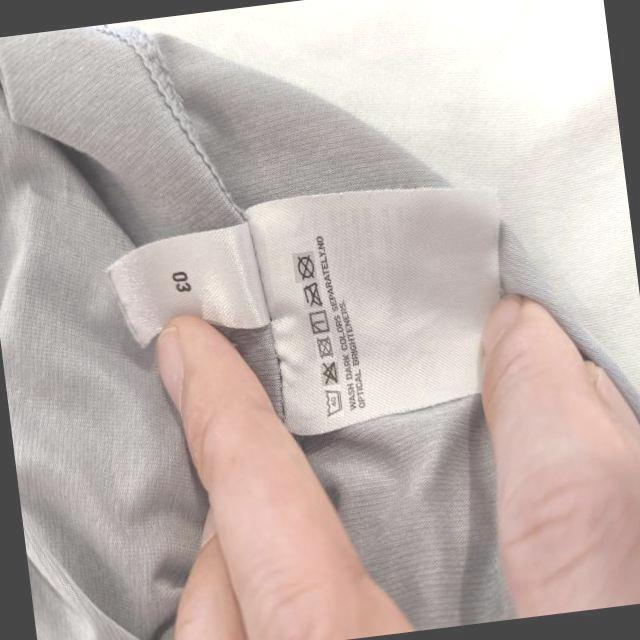40C: (323, 388, 344, 418)
DN_bleach: (320, 361, 340, 387)
DN_dry_clean: (295, 254, 317, 280)
DN_iron: (303, 281, 324, 309)
DN_tumble_dry: (315, 336, 335, 359)
